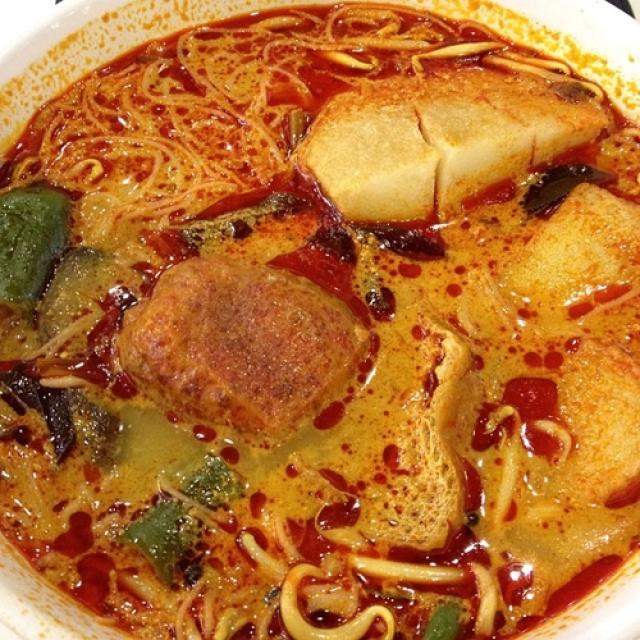面条主食: (19, 15, 617, 613)
